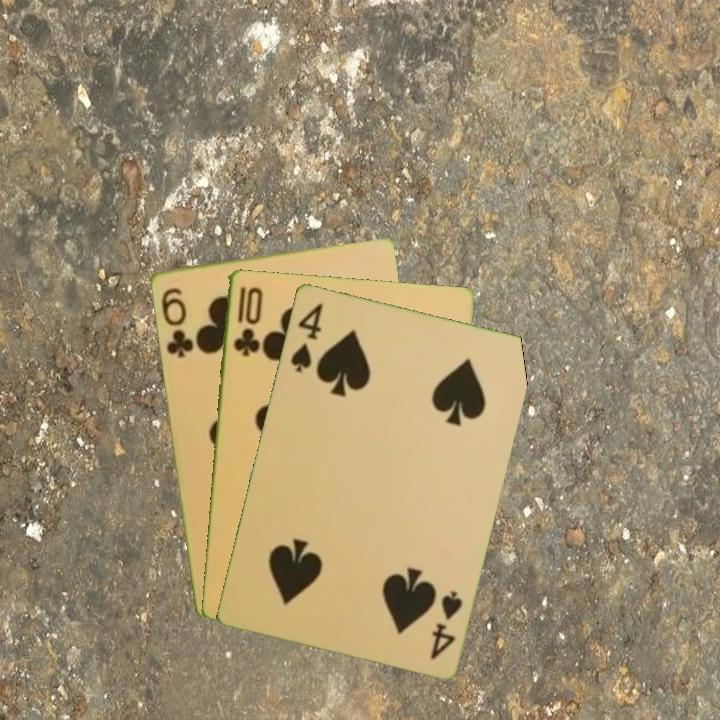10c: (229, 282, 264, 359)
4s: (426, 586, 465, 663), (287, 299, 326, 375)
6c: (157, 283, 196, 361)
